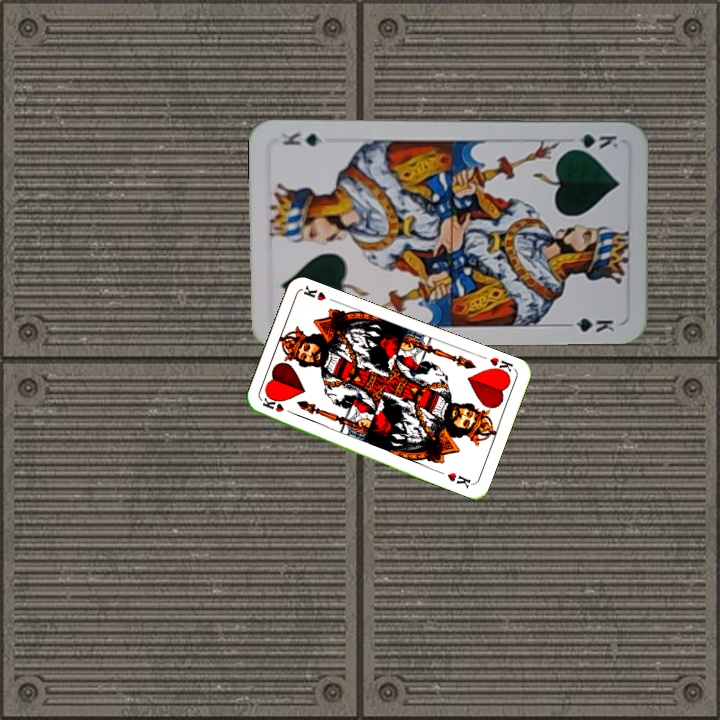GK: (563, 129, 620, 152)
HK: (258, 395, 298, 418), (485, 353, 517, 379)
